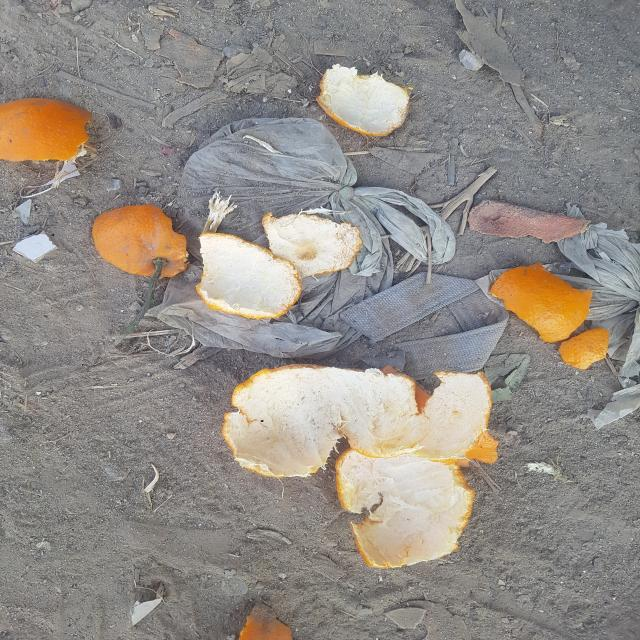paper: (78, 185, 356, 332)
